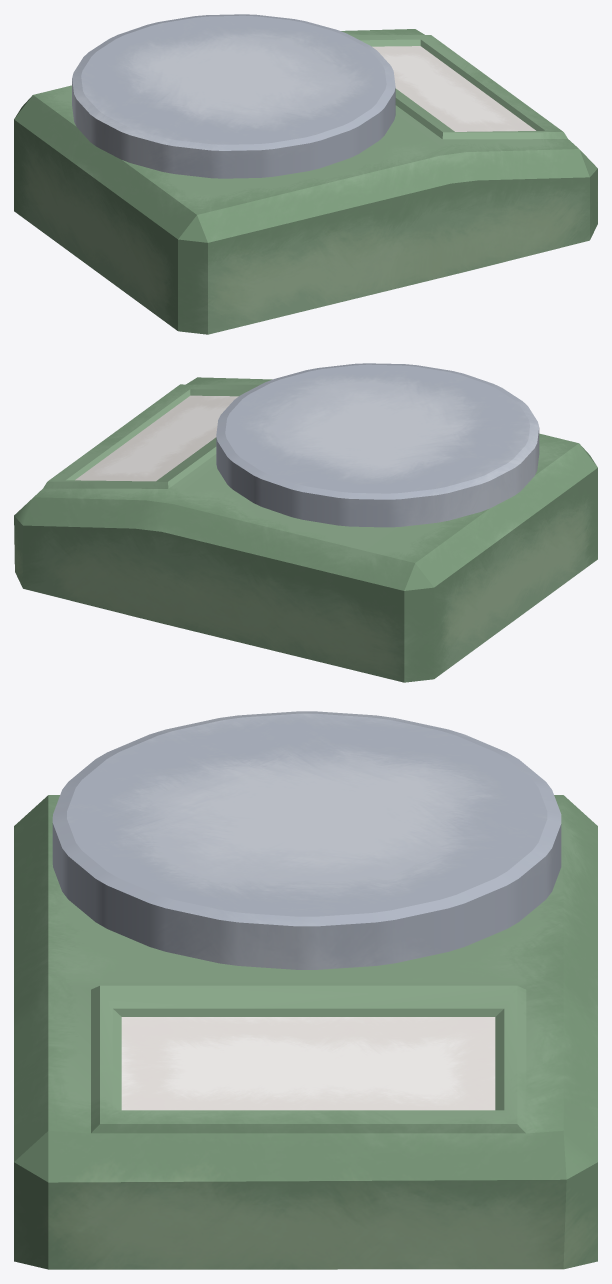
Rendered from ScaleModel.fbx.
The picture shows the model from 3 angles, top to bottom: view 1: azimuth 30°, elevation 25°; view 2: azimuth 150°, elevation 25°; view 3: azimuth 270°, elevation 25°; orthographic projection. The views are drawn at different scales.
Visible parts, largest first — view 1: polySurface1, polySurface2; view 2: polySurface1, polySurface2; view 3: polySurface1, polySurface2.
Part boxes in pixels (x1,y1,x2,y2): polySurface1: (14,29,597,334); polySurface2: (72,14,395,178); polySurface1: (14,377,597,682); polySurface2: (216,363,539,527); polySurface1: (14,795,597,1269); polySurface2: (52,711,561,969).
Size of the model in its own units: 13.35 by 4.75 by 10.19.
Materials: 3 (3 with a texture image).
